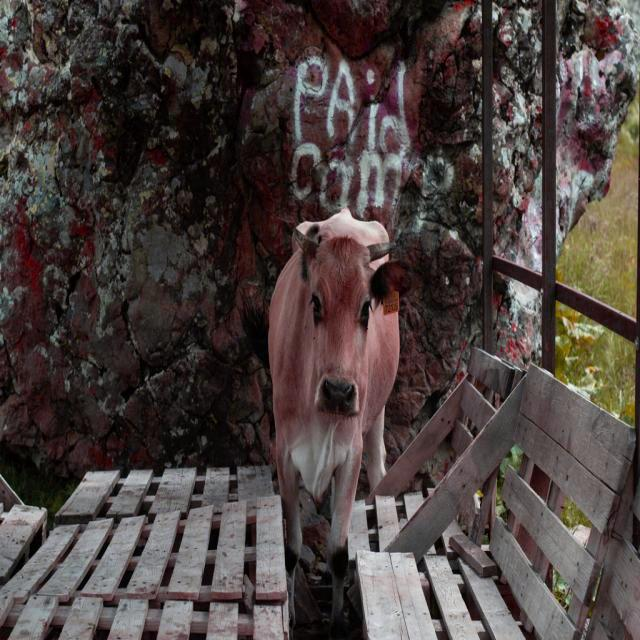cow: (269, 209, 409, 619)
